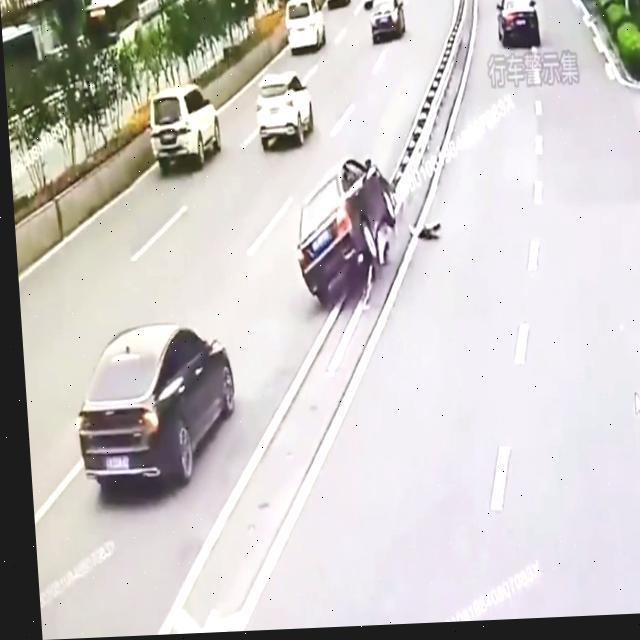normal: (70, 302, 250, 503), (142, 37, 315, 212)
single accident: (275, 118, 438, 328)
